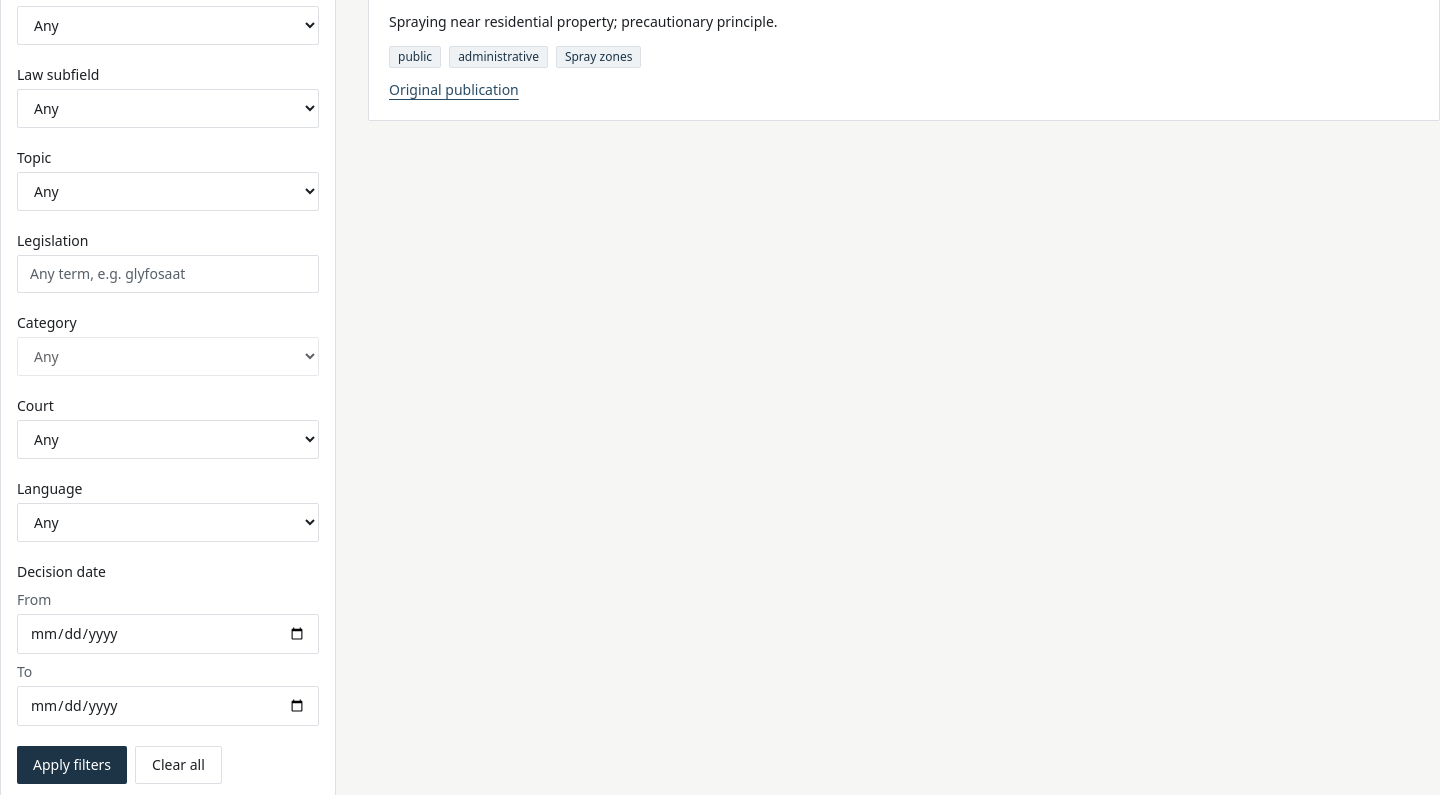
Test: AllCases › refuses a date range that ends before it starts, without touching the URL
(page scrolled)
Type "2024-12-31" into the date field labelled "From". click: (168, 634)
box: 17,614 -> 319,654
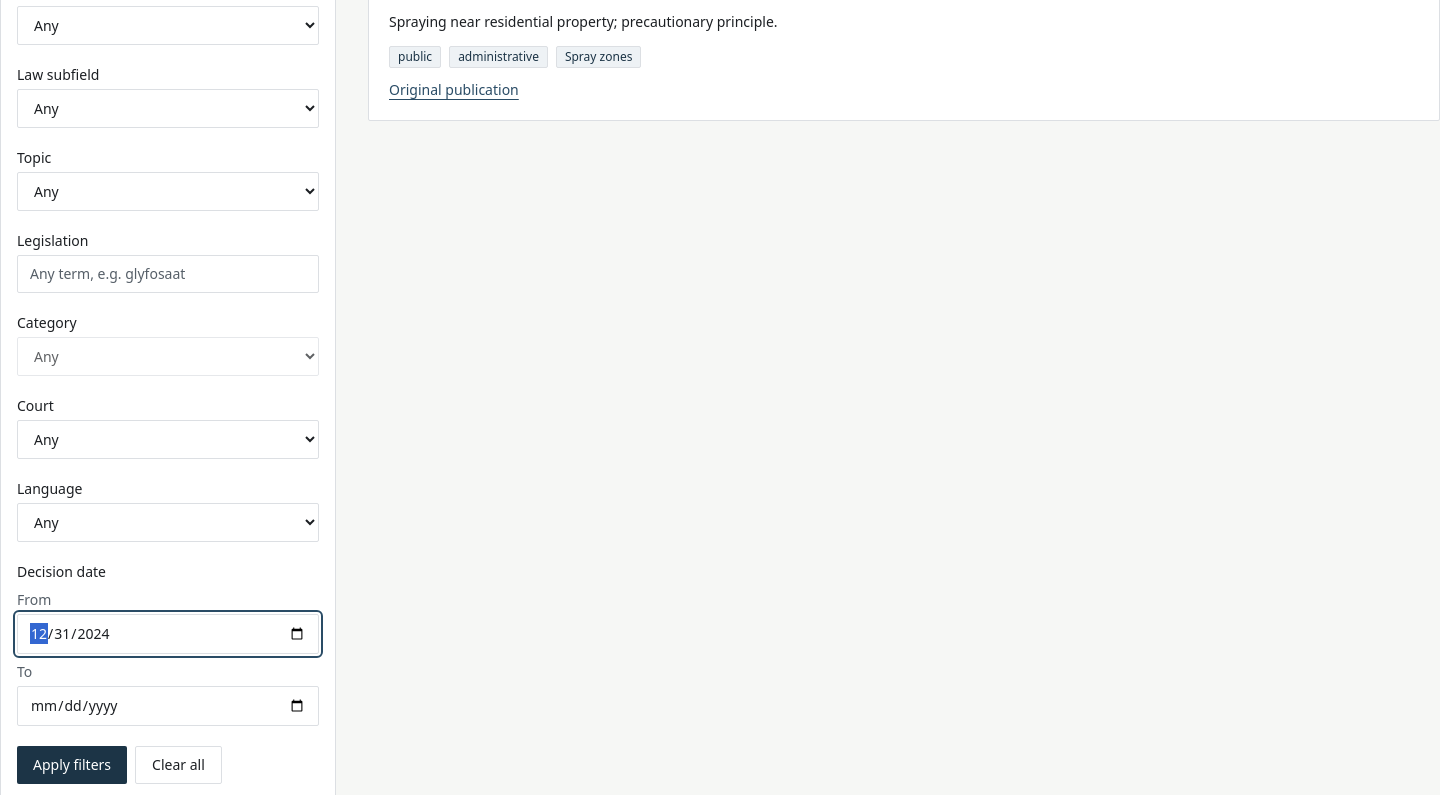
Type "2020-01-01" into the date field labelled "To". click: (168, 706)
box: 17,686 -> 319,726
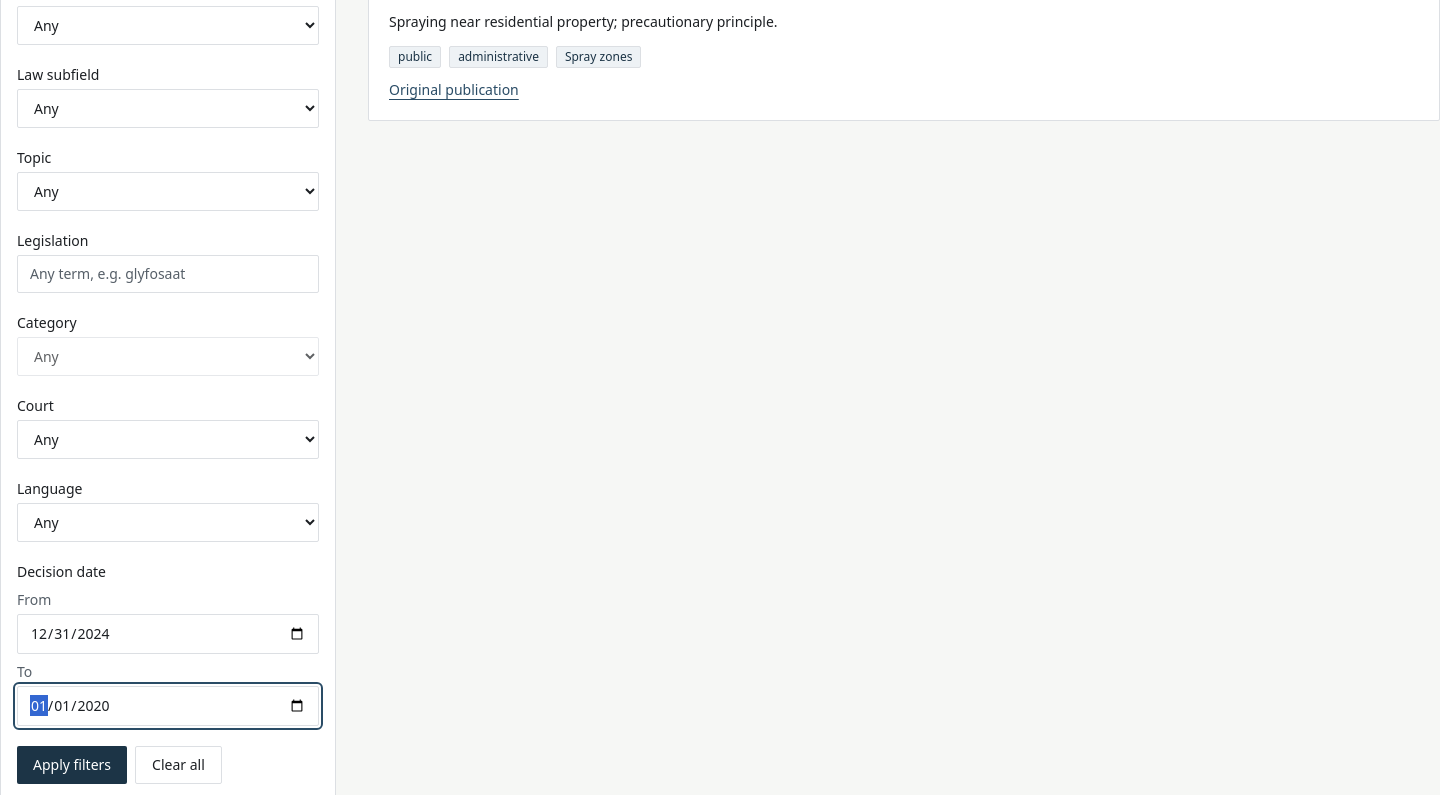
Click the button "Apply filters". click: (72, 765)
box: 17,746 -> 127,784
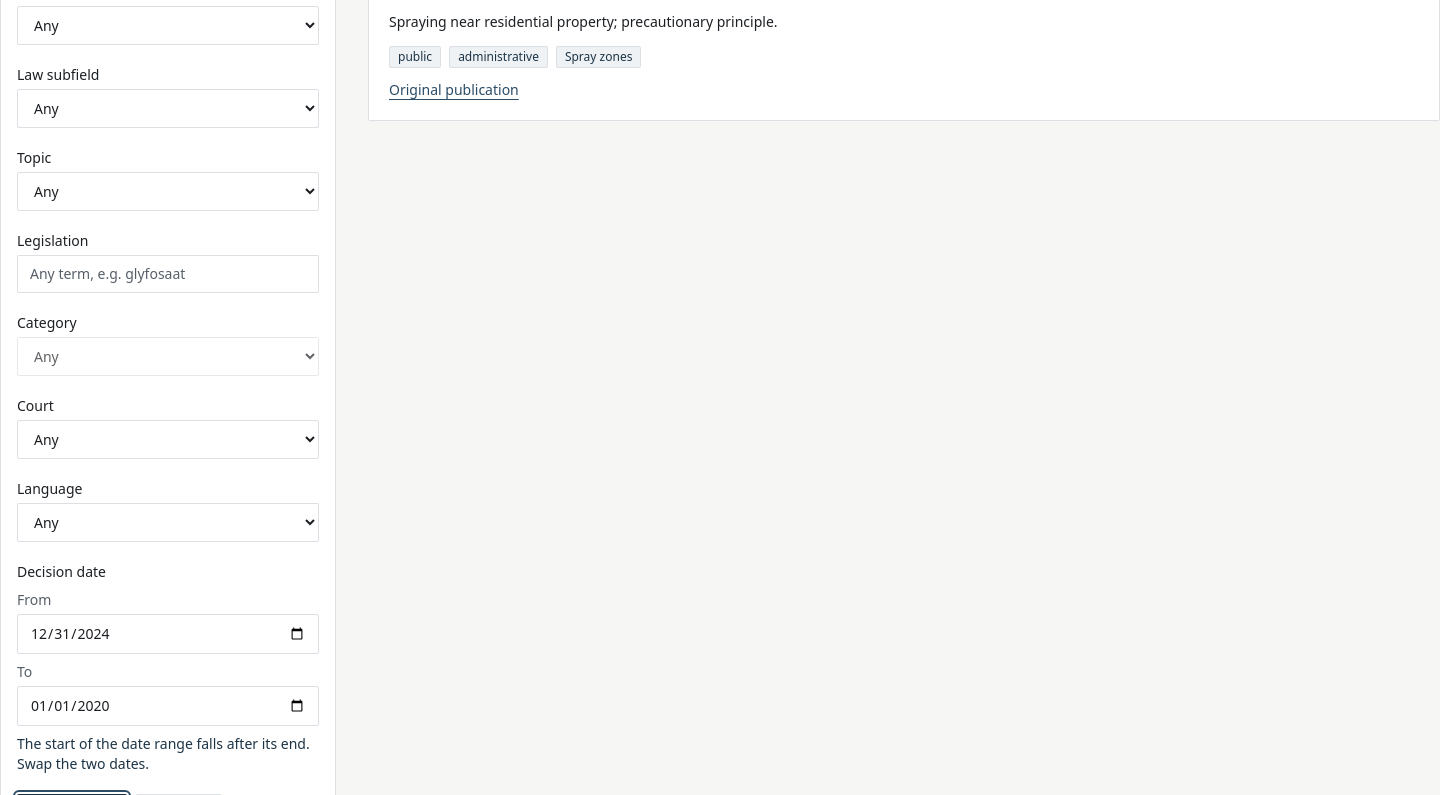
Expected: the message shows "falls after its end", 17,734 -> 310,773
